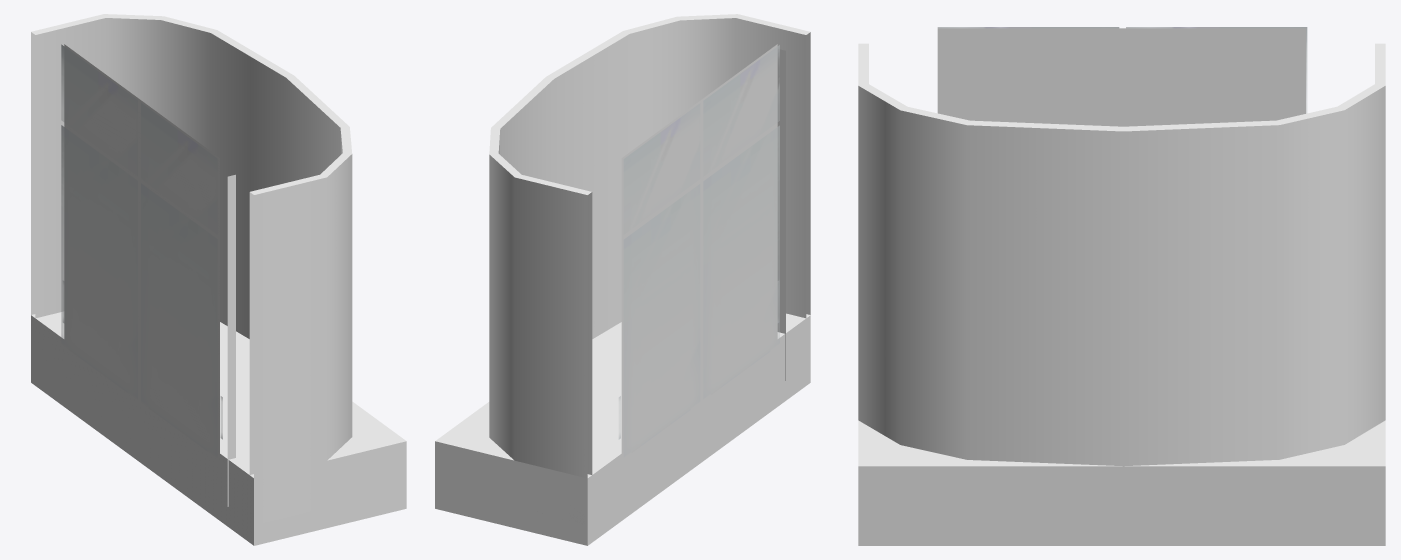
The model's file is my_shoppingmall_01_window_01.glb.
3 renders of one model, left to right at view 1: azimuth 30°, elevation 25°; view 2: azimuth 150°, elevation 25°; view 3: azimuth 270°, elevation 25°, orthographic. The views are drawn at different scales.
Visible parts, largest first — view 1: my_shoppingmall_01_window_01_cover, my_shoppingmall_01_window_01_hole, my_shoppingmall_01_window_01_a; view 2: my_shoppingmall_01_window_01_cover, my_shoppingmall_01_window_01_hole, my_shoppingmall_01_window_01_a; view 3: my_shoppingmall_01_window_01_cover, my_shoppingmall_01_window_01_hole, my_shoppingmall_01_window_01_a.
Boxes of the visible parts, x1,y1,x2,y2 form: my_shoppingmall_01_window_01_cover: (31, 14, 406, 545); my_shoppingmall_01_window_01_hole: (64, 44, 219, 457); my_shoppingmall_01_window_01_a: (61, 44, 217, 458); my_shoppingmall_01_window_01_cover: (435, 14, 810, 545); my_shoppingmall_01_window_01_hole: (621, 44, 777, 457); my_shoppingmall_01_window_01_a: (623, 45, 779, 458); my_shoppingmall_01_window_01_cover: (858, 43, 1385, 545); my_shoppingmall_01_window_01_hole: (937, 28, 1305, 126); my_shoppingmall_01_window_01_a: (937, 27, 1307, 113).
Size of the model in its own units: 0.0256 by 0.0534 by 0.059.
Materials: 6 (4 with a texture image).
